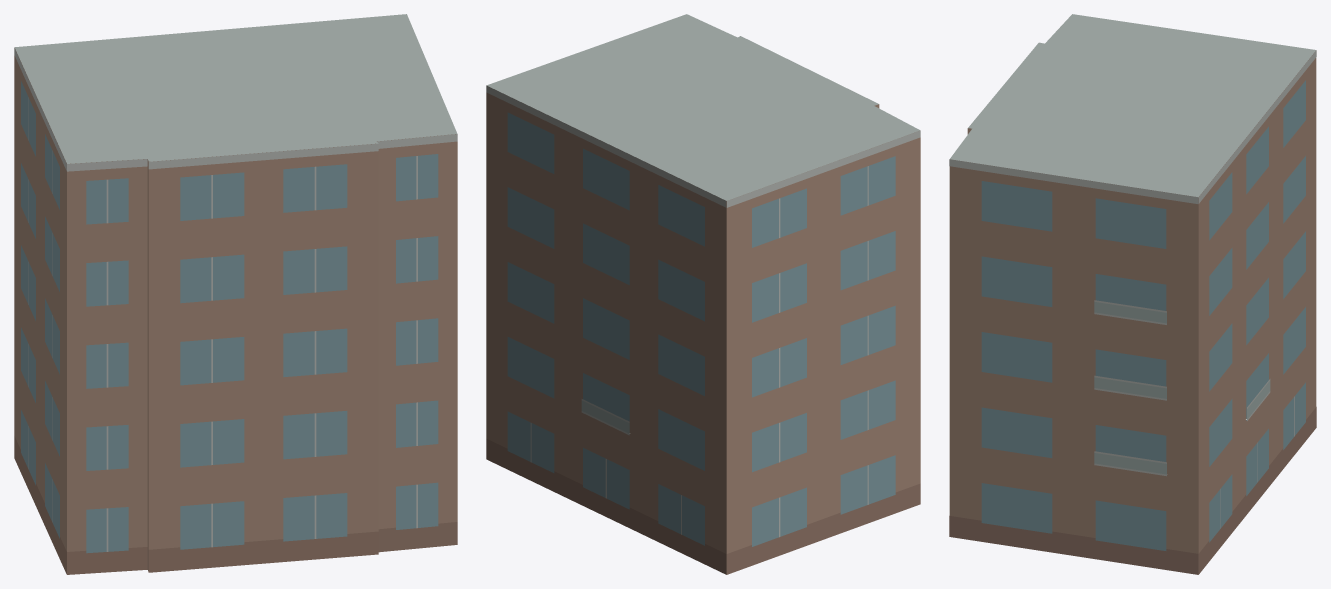
Rendered from survey-upis-32955049.glb.
3 views of the same model, side by side, from view 1: azimuth 30°, elevation 25°; view 2: azimuth 150°, elevation 25°; view 3: azimuth 270°, elevation 25° (orthographic). The views are drawn at different scales.
Visible parts, largest first — view 1: survey-upis-32955049.tmp; view 2: survey-upis-32955049.tmp; view 3: survey-upis-32955049.tmp.
Part boxes in pixels (left/top/right/bottom): survey-upis-32955049.tmp: left=14, top=14, right=457, bottom=574; survey-upis-32955049.tmp: left=486, top=14, right=920, bottom=574; survey-upis-32955049.tmp: left=949, top=14, right=1316, bottom=574.
Bounding box in the file's own units: 13.64 × 13.1 × 11.55.
